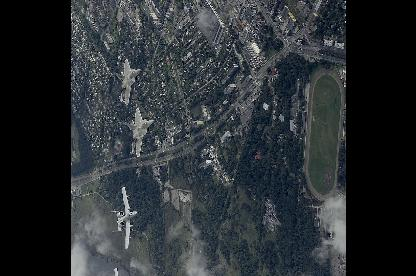A10: (109, 186, 137, 249)
F18: (123, 107, 153, 157), (112, 58, 140, 106)
